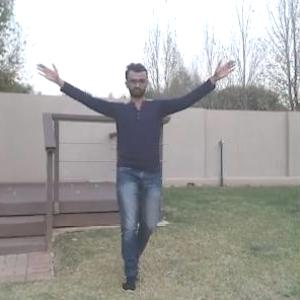takeoff: (35, 61, 224, 270)
